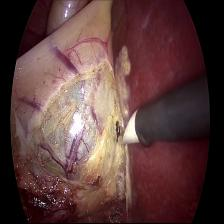Hook: (113, 93, 138, 158)
